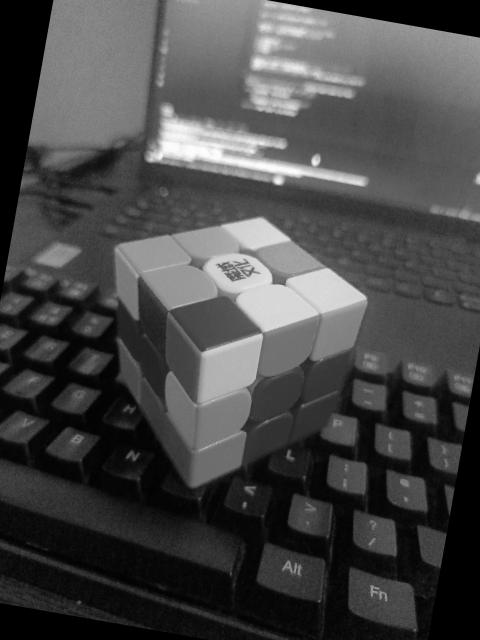rubik: (75, 190, 380, 512)
